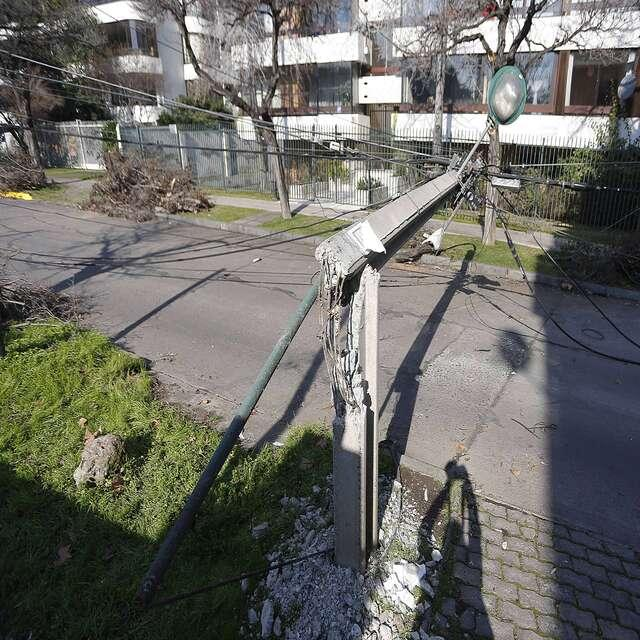Inclined Pole: (310, 144, 521, 579), (133, 268, 322, 608)
